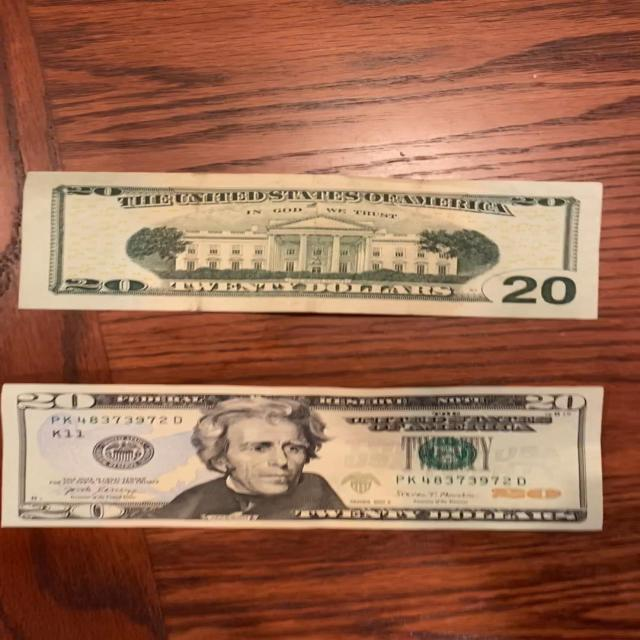20-Back: (4, 167, 616, 327)
20-Front: (0, 379, 611, 532)
